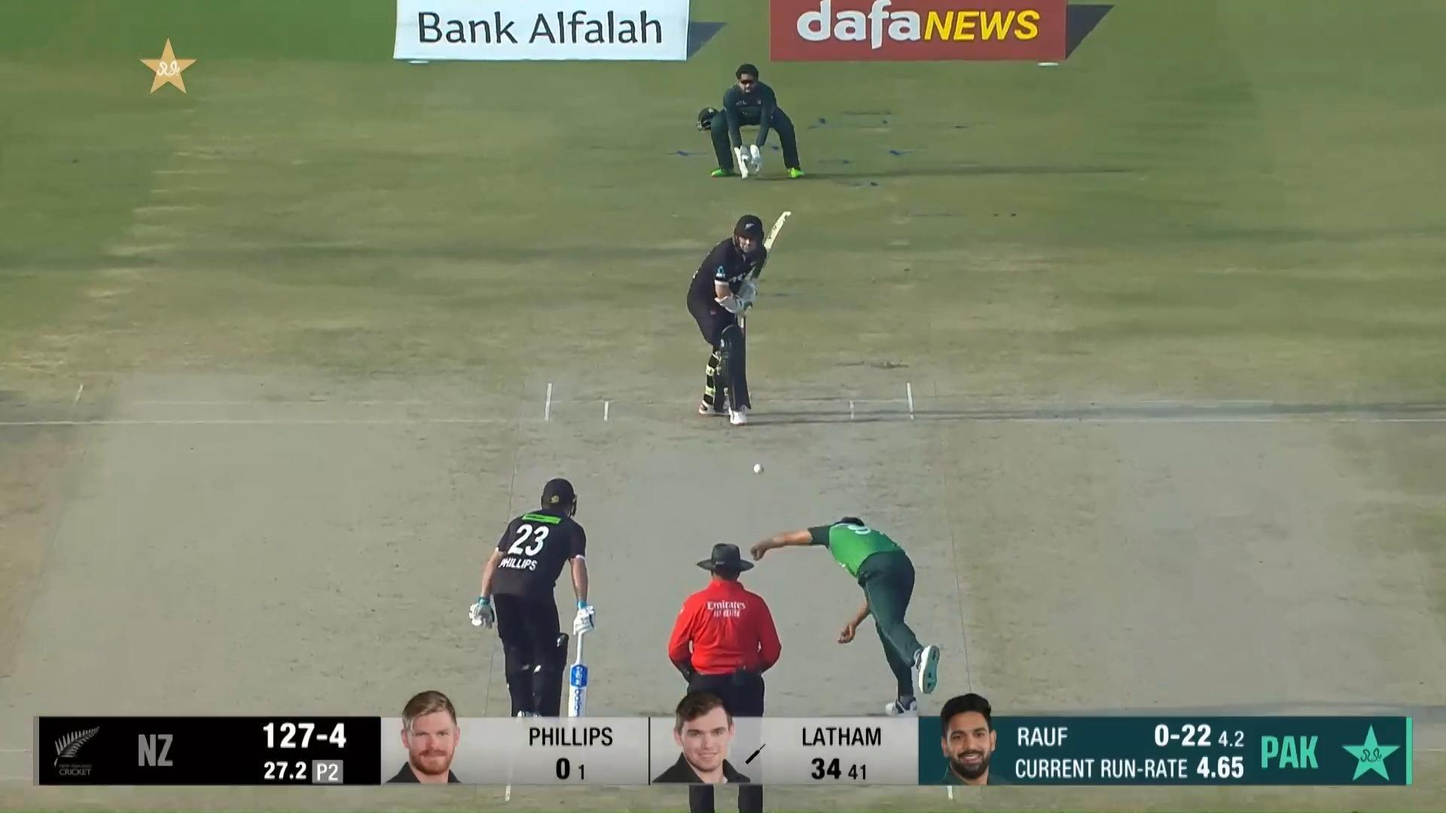BM 1: (685, 211, 789, 426)
BO: (749, 516, 942, 717)
